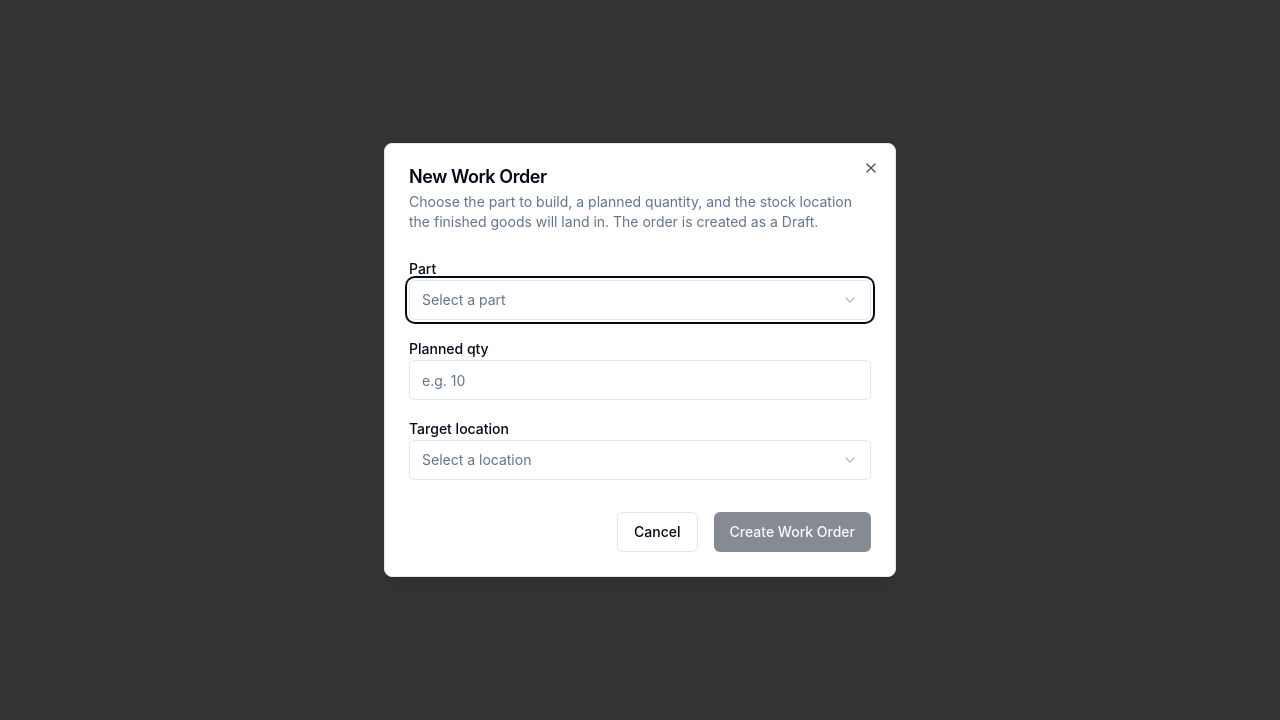
Test: WorkOrderCreateDialog › omits inactive locations from the target-location Select
Click the dropdown named "Target location" at (477, 460), box x1=409 y1=440 x2=871 y2=480
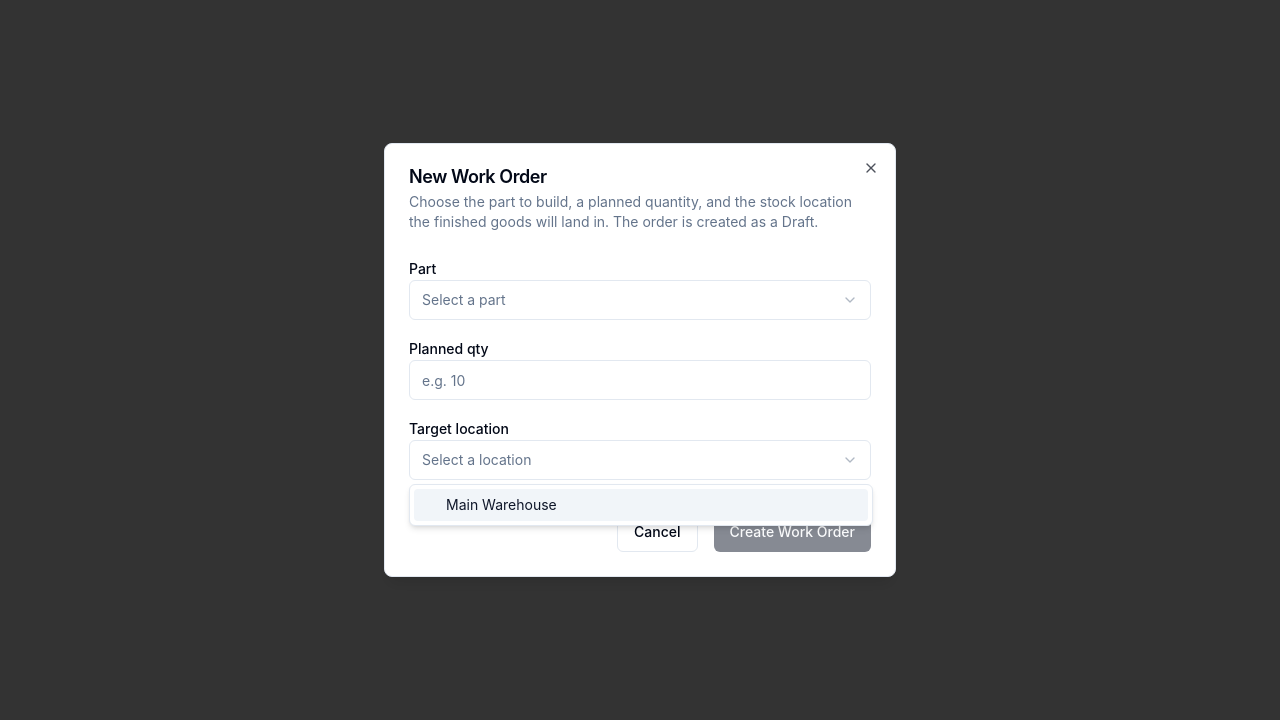
Expected: the option "Main Warehouse" is shown, x1=414 y1=489 x2=868 y2=521
